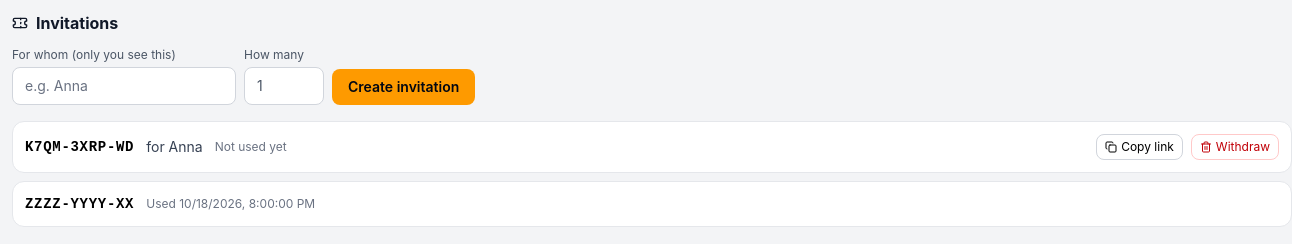
Scenario: AdminInviteCodes (ops#108, #96) › withdraws an open invitation
Expected: the text "K7QM-3XRP-WD" is shown, x1=25 y1=137 x2=134 y2=157
Click the button with aria-label "Withdraw invitation K7QM-3XRP-WD".
click(1235, 147)  # box x1=1191 y1=134 x2=1279 y2=160
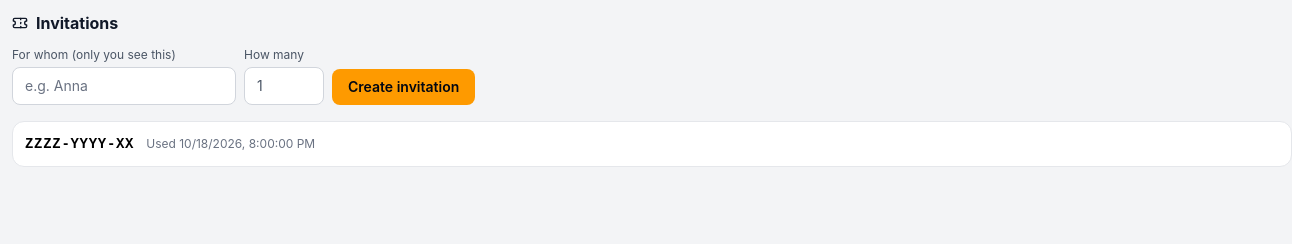
Result: the text "K7QM-3XRP-WD" is gone
